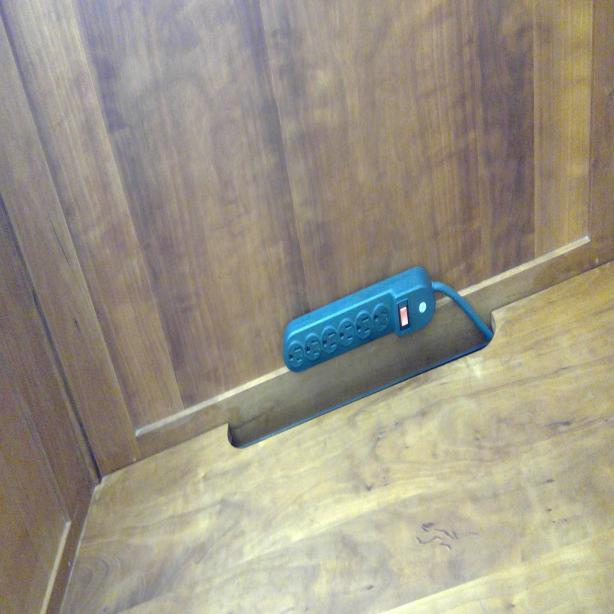typeb: (321, 327, 339, 354), (338, 323, 355, 346), (288, 342, 304, 366), (305, 335, 320, 359), (375, 305, 390, 329), (356, 316, 372, 338)
